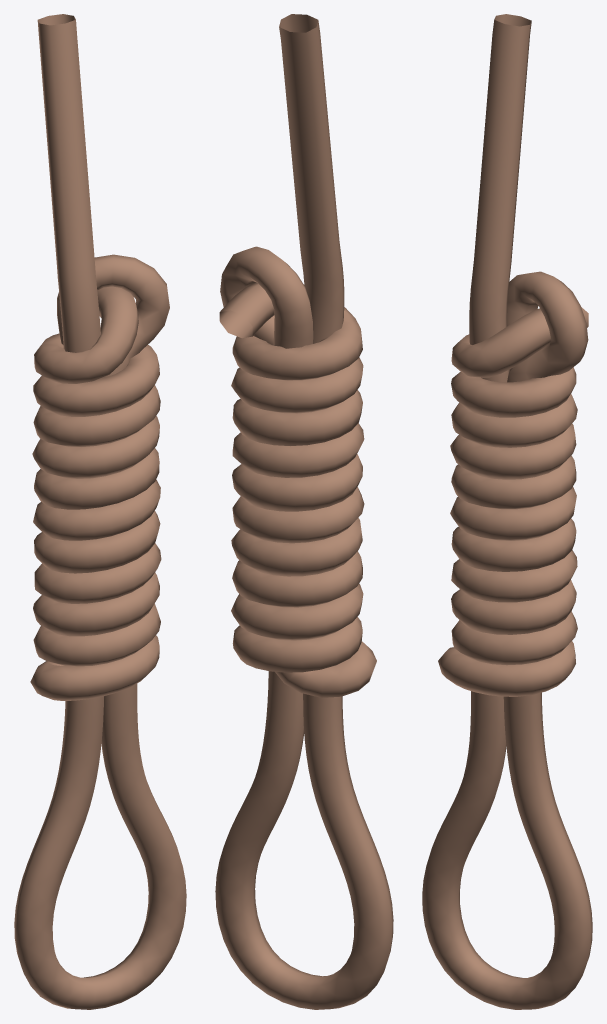
The model's file is noose_3d_model.fbx.
3 views of the same model, side by side, from view 1: azimuth 30°, elevation 25°; view 2: azimuth 150°, elevation 25°; view 3: azimuth 330°, elevation 25° (orthographic). The views are drawn at different scales.
Visible parts, largest first — view 1: knot_demo:Mesh; view 2: knot_demo:Mesh; view 3: knot_demo:Mesh.
Part boxes in pixels (left/top/right/bottom): knot_demo:Mesh: left=14, top=14, right=186, bottom=1009; knot_demo:Mesh: left=215, top=14, right=393, bottom=1009; knot_demo:Mesh: left=422, top=14, right=592, bottom=1009.
Bounding box in the file's own units: 0.1802 × 0.9992 × 0.1116.
